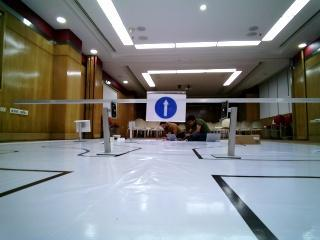straight: (147, 91, 184, 123)
